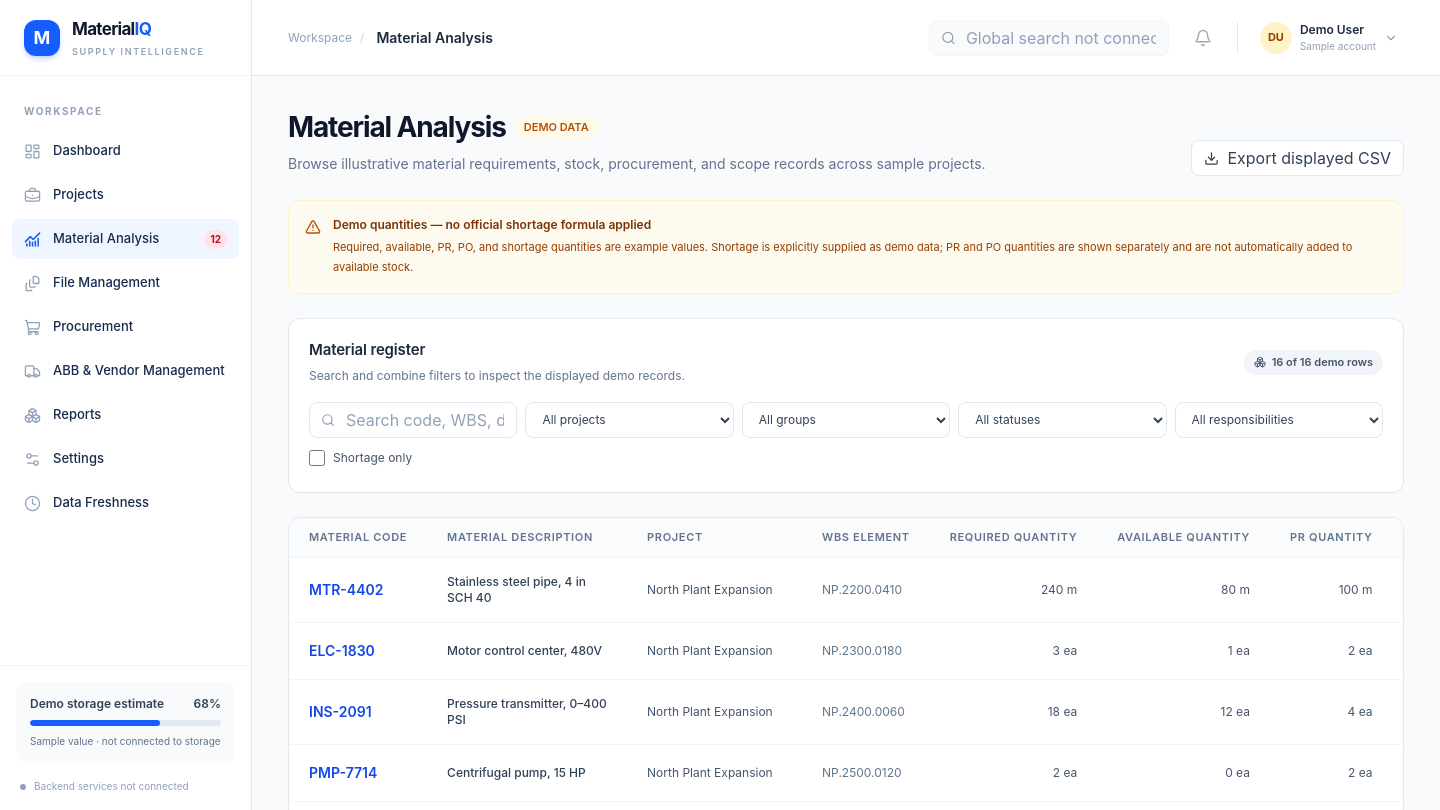
it: MaterialIQ application › searches material code and WBS values
The width and height of the screenshot is (1440, 810).
Type "WT.2400.0080" into the field named "Search materials" at (413, 420), box [309,402,517,438]
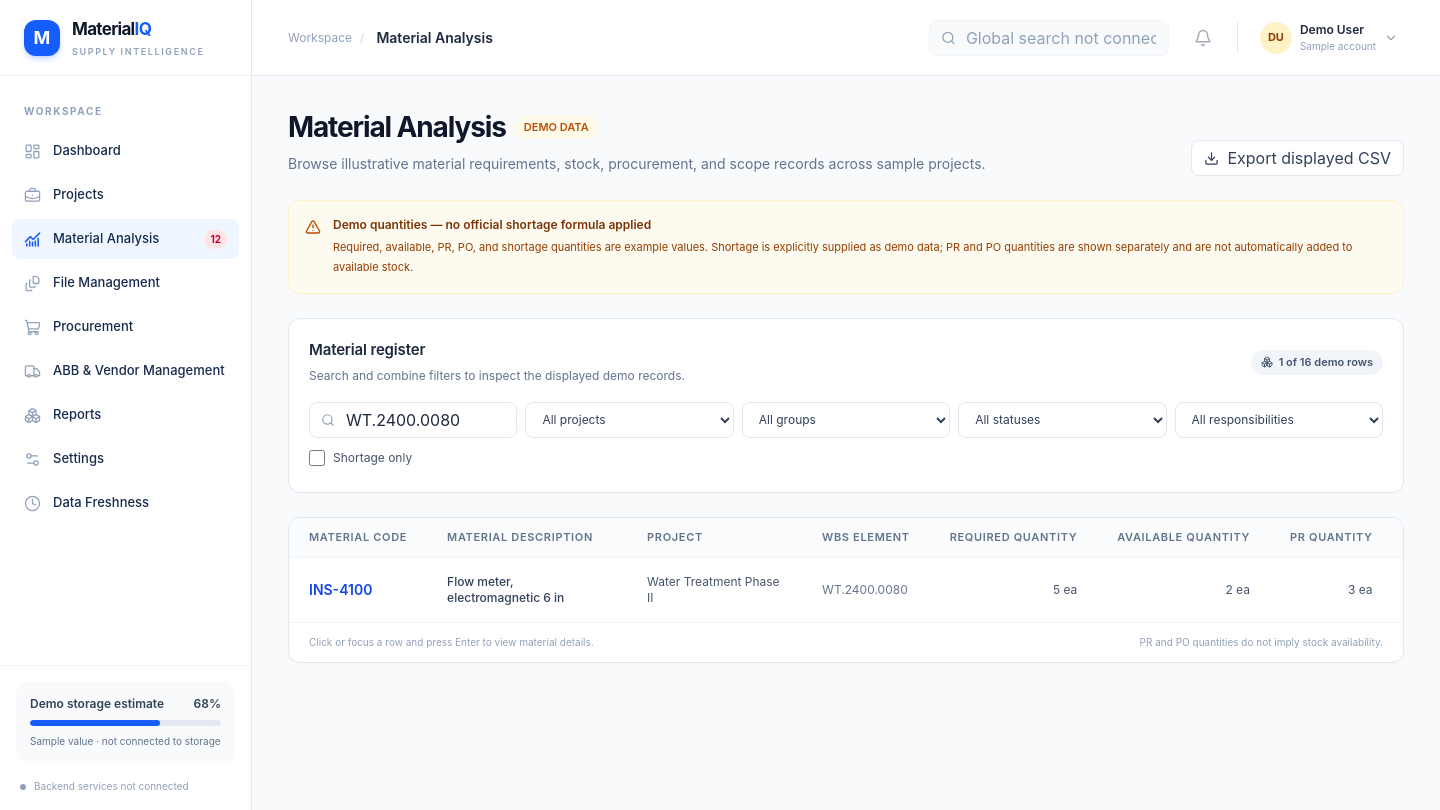
expect the row "INS-4100" is shown: met, box [289,558,1403,622]
expect the cell "ELC-1830" is gone: met
